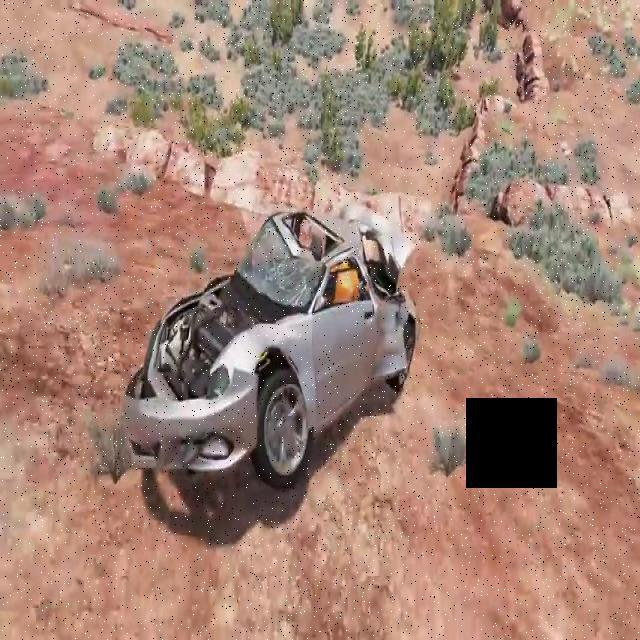severe: (118, 182, 419, 490)
